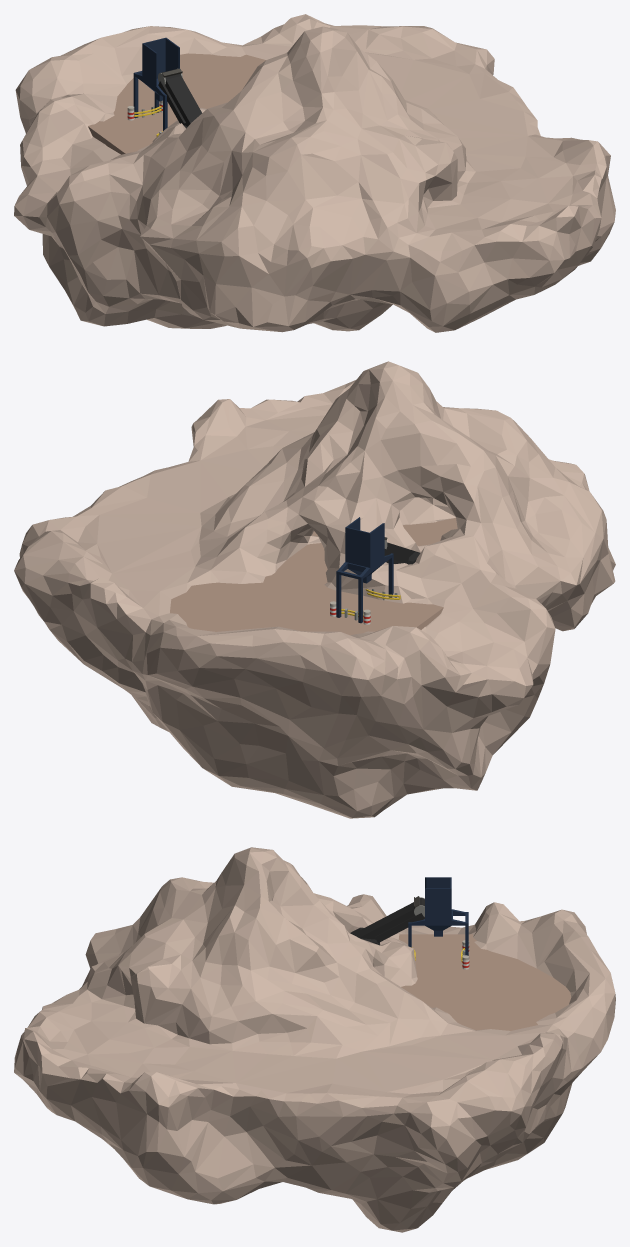
The model's file is MineRoom.fbx.
The picture shows the model from 3 angles, top to bottom: view 1: azimuth 30°, elevation 25°; view 2: azimuth 150°, elevation 25°; view 3: azimuth 270°, elevation 25°; orthographic projection. The views are drawn at different scales.
Visible parts, largest first — view 1: BeltGround.002, BeltGround.001, CoalFall, ConveyorRoll.001; view 2: BeltGround.002, BeltGround.001, CoalFall; view 3: BeltGround.002, BeltGround.001, CoalFall, ConveyorRoll.001.
Boxes of the visible parts, x1,y1,x2,y2 form: BeltGround.002: (14,14,615,332); BeltGround.001: (88,53,265,154); CoalFall: (133,37,179,130); ConveyorRoll.001: (165,76,201,126); BeltGround.002: (14,361,615,818); BeltGround.001: (170,517,457,635); CoalFall: (336,517,393,623); BeltGround.002: (14,847,615,1232); BeltGround.001: (399,934,571,1030); CoalFall: (408,877,468,955); ConveyorRoll.001: (352,902,415,939).
Size of the model in its own units: 80.23 by 55.6 by 89.69.
Materials: 1 (1 with a texture image).
